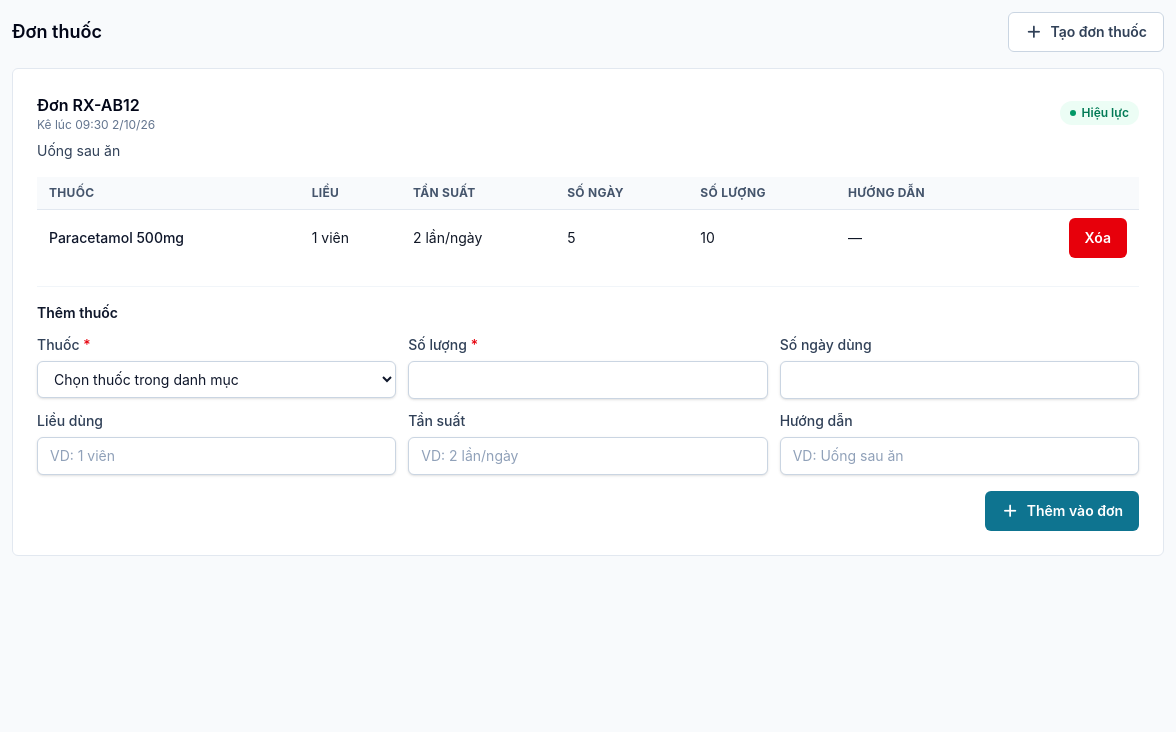
Test case: EncounterPrescriptionsTab › có danh mục thuốc: bắt buộc chọn thuốc và gửi medicineId, không gửi tên tự nhập
Type "14" into the number field with id "rx-20-quantity" at (588, 380), box left=408, top=361, right=768, bottom=399
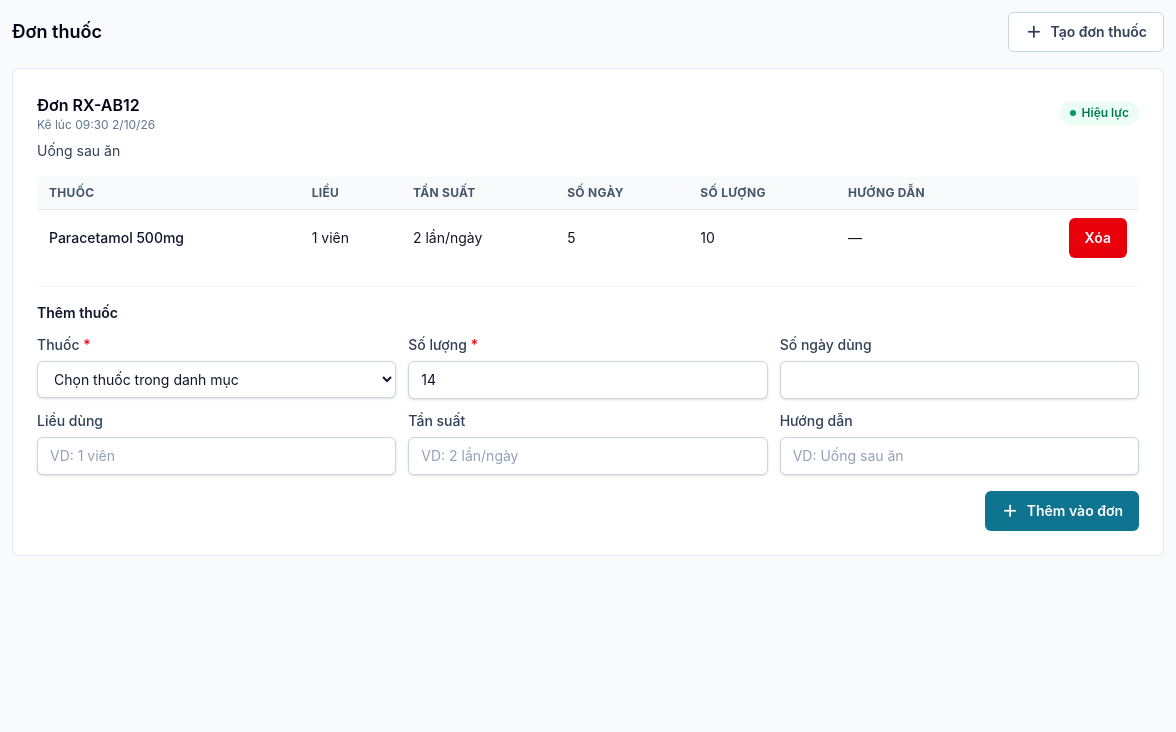
Submit the form with test id "item-form-20", box left=37, top=286, right=1139, bottom=531
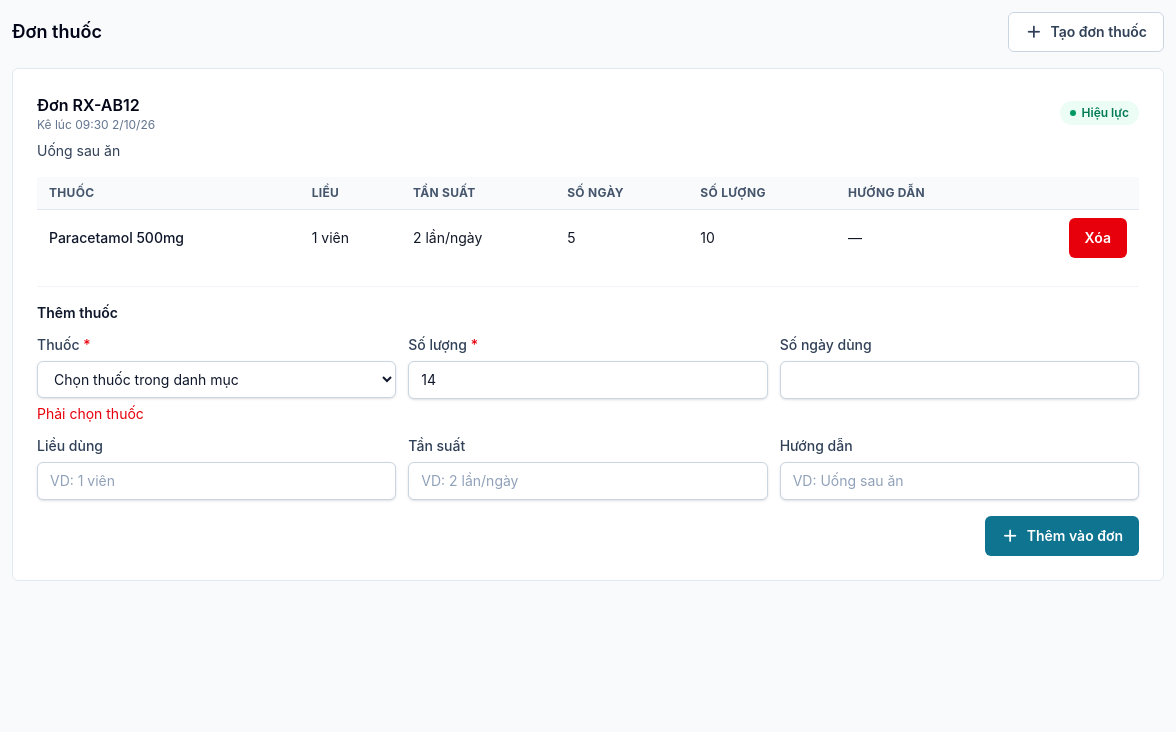
Now the text with id "rx-20-medicine-error" reads "Phải chọn thuốc", box left=37, top=405, right=144, bottom=422
Select "Amoxicillin 500mg (Viên)" in the dropdown with id "rx-20-medicine" at (217, 380), box left=37, top=361, right=396, bottom=398
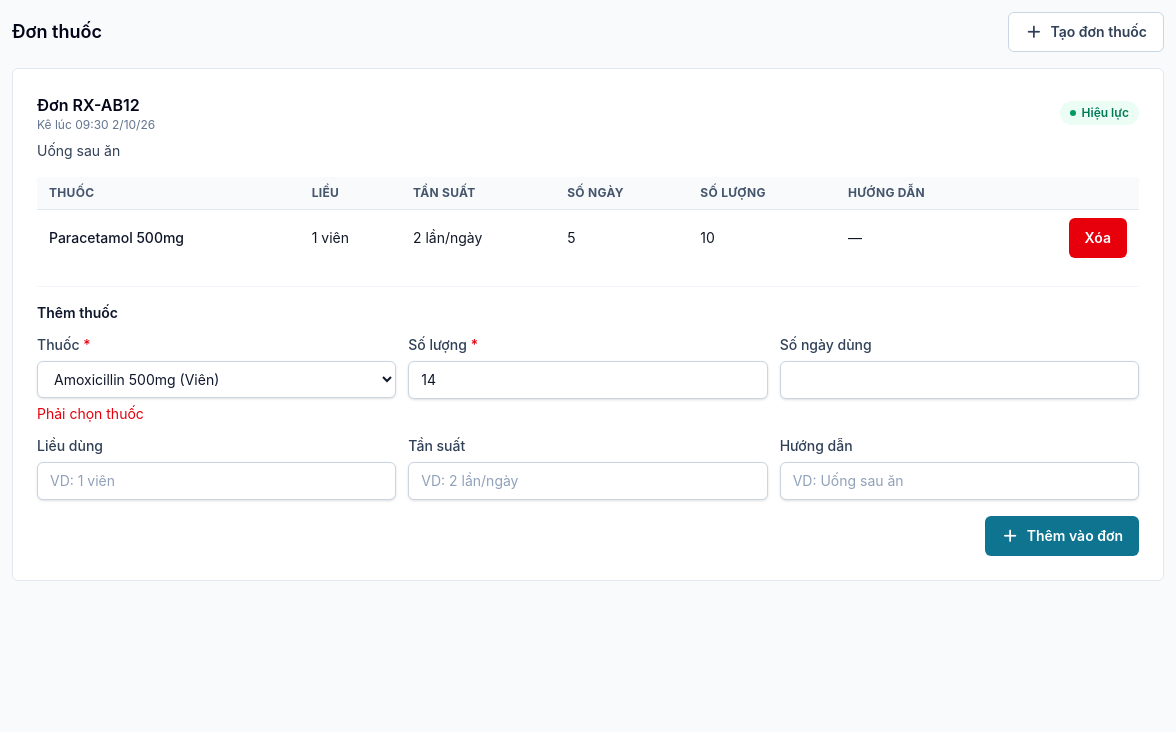
Submit the form with test id "item-form-20", box left=37, top=286, right=1139, bottom=556
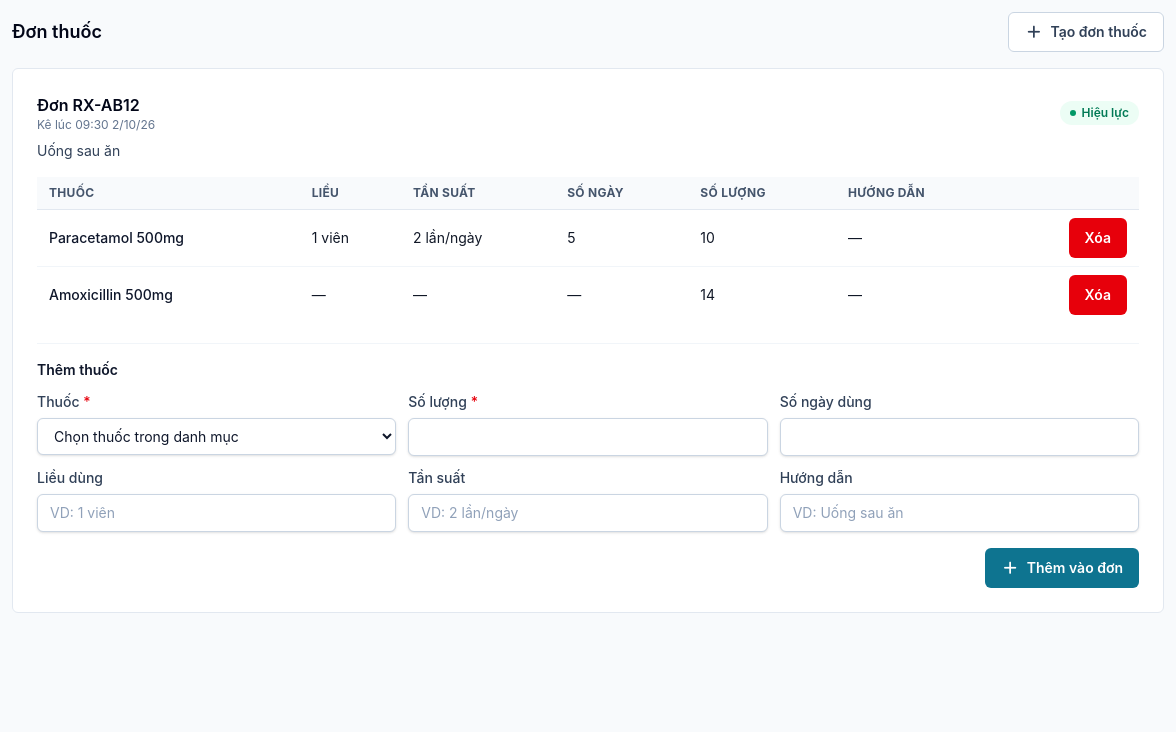
Now the row with test id "item-33" shows "Amoxicillin 500mg", box left=49, top=286, right=173, bottom=303
